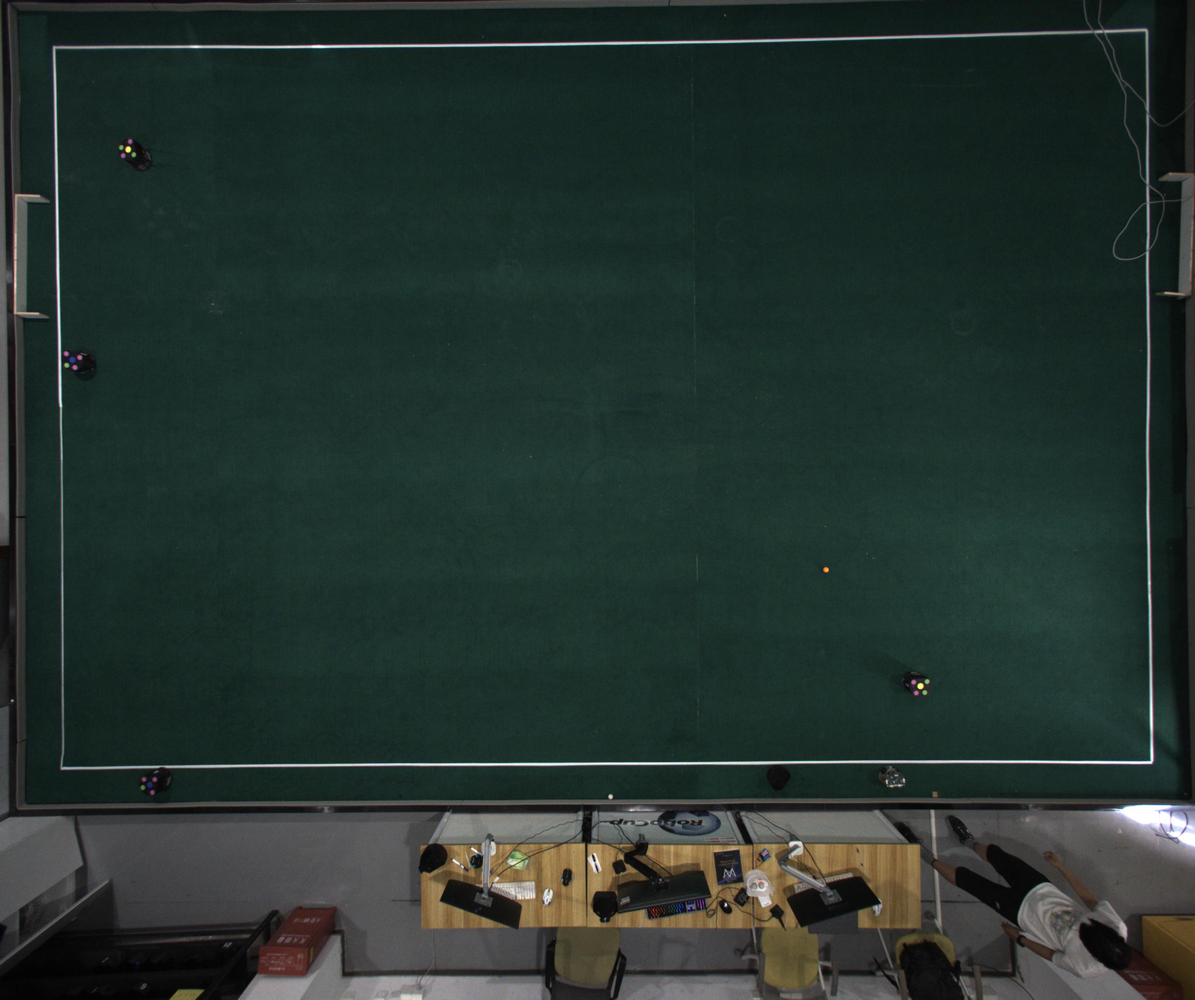ball: (823, 566, 829, 573)
blue_bot: (63, 349, 84, 373), (139, 774, 160, 796)
yellow_bot: (118, 139, 140, 162), (909, 678, 932, 696)
